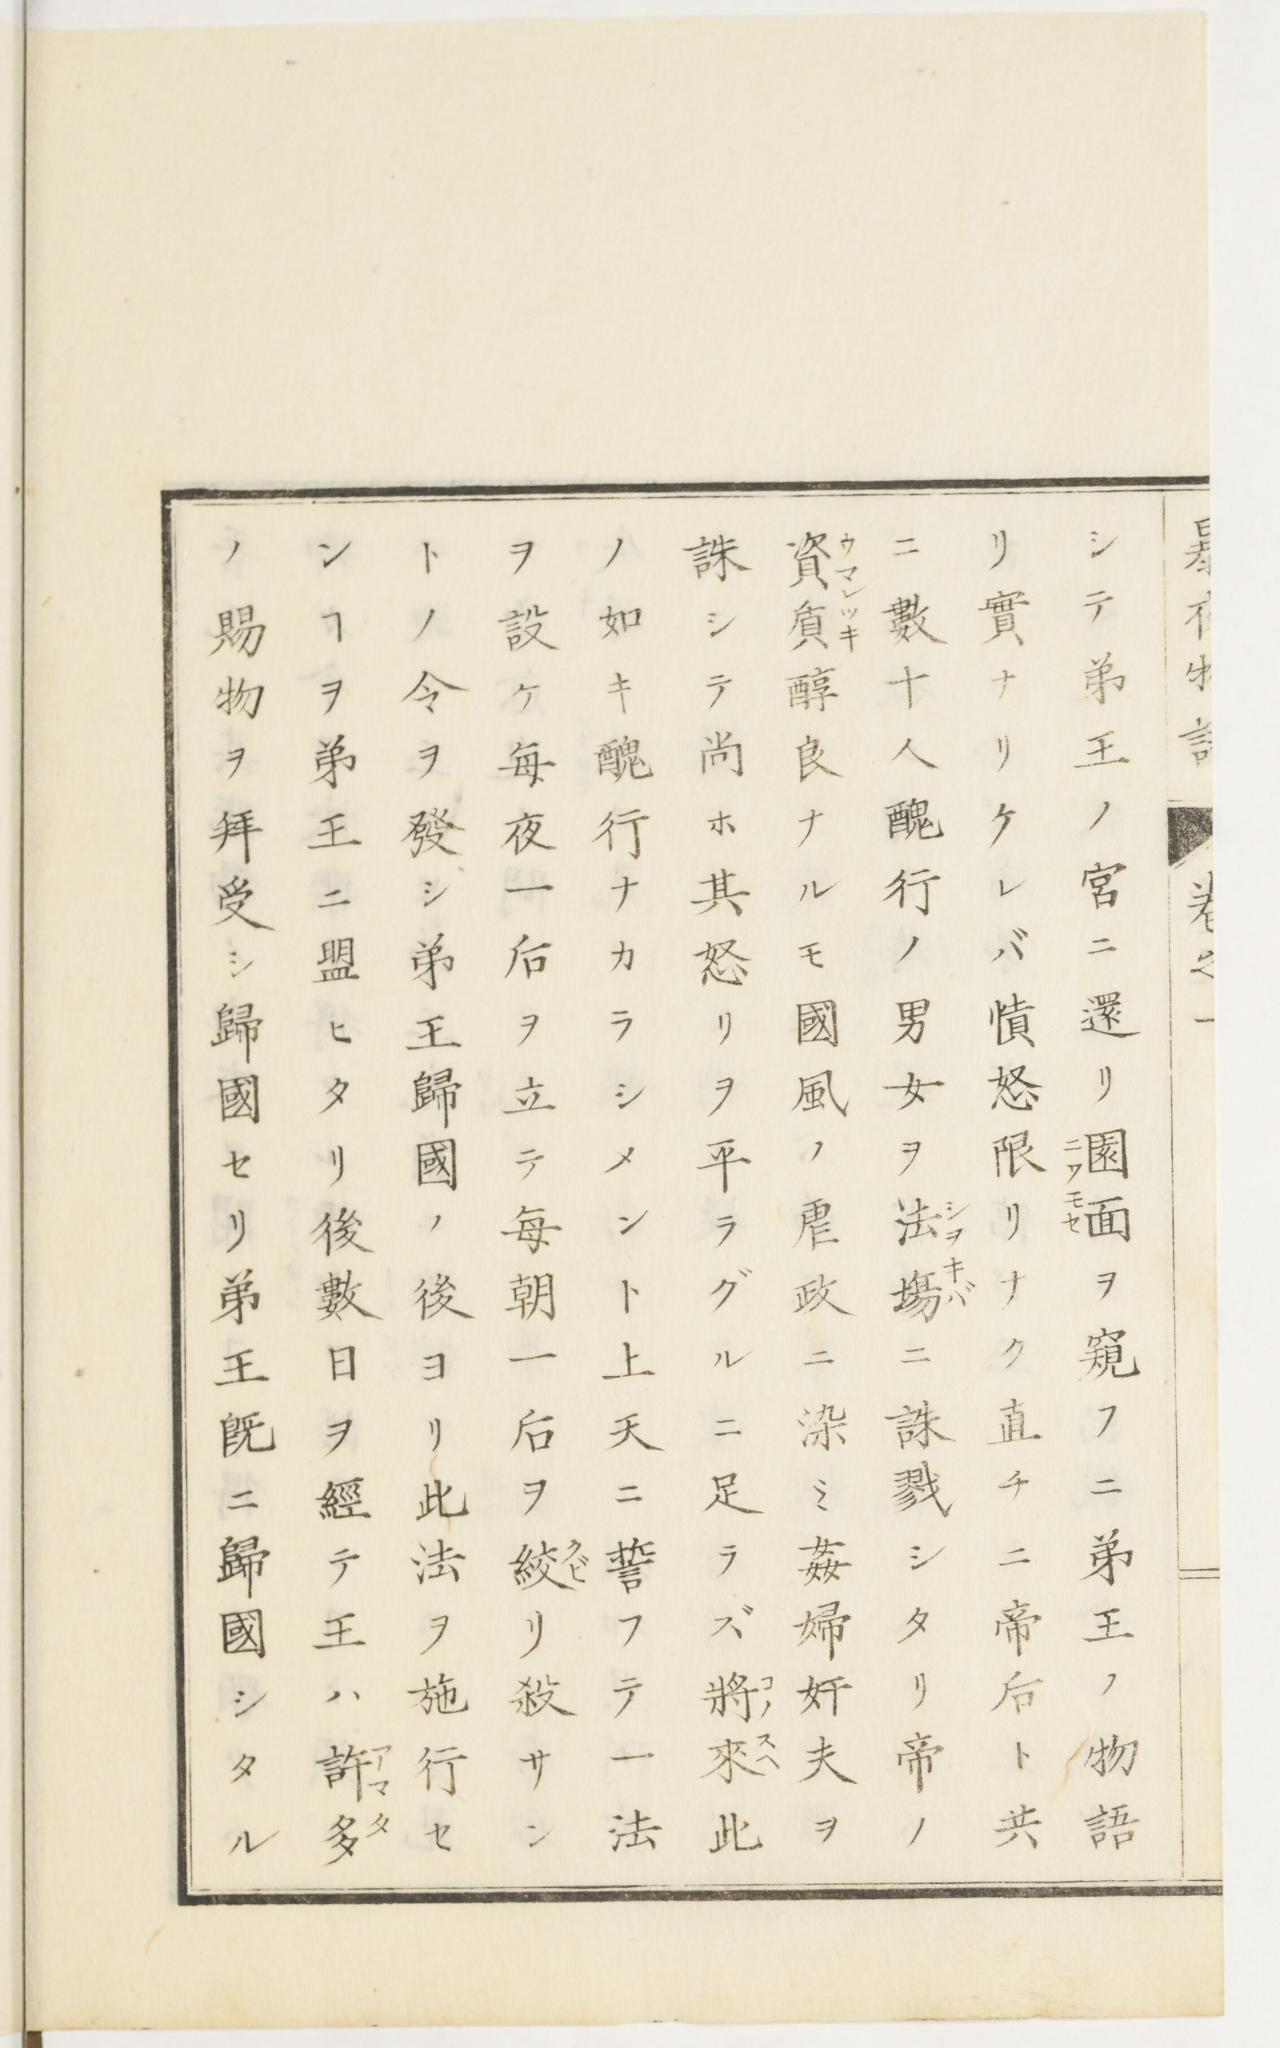MainZone-Character: (782, 525, 873, 603), (889, 1259, 987, 1328), (311, 1802, 401, 1868), (785, 599, 873, 662), (314, 1737, 397, 1803), (891, 1188, 972, 1253), (700, 1724, 786, 1784), (512, 1530, 590, 1592), (702, 1668, 779, 1721)
MainZone-Ruby: (360, 1740, 400, 1802), (833, 528, 869, 597), (941, 1259, 979, 1311), (563, 1530, 594, 1588), (941, 1197, 973, 1250), (838, 603, 866, 653), (755, 1725, 780, 1772), (755, 1671, 777, 1716), (369, 1809, 392, 1834)
